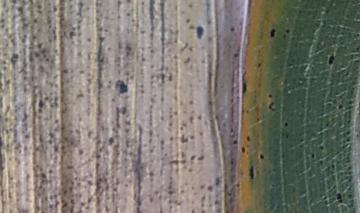tarspot: (114, 79, 129, 95), (196, 24, 205, 40), (248, 165, 255, 180), (335, 192, 343, 204), (328, 53, 335, 66), (269, 98, 276, 110), (242, 82, 248, 95), (270, 28, 277, 39), (267, 90, 273, 100), (240, 145, 247, 153), (309, 152, 317, 159), (258, 152, 264, 160), (320, 144, 325, 153), (285, 27, 291, 34), (338, 104, 344, 111), (246, 135, 251, 142), (284, 121, 289, 128)
